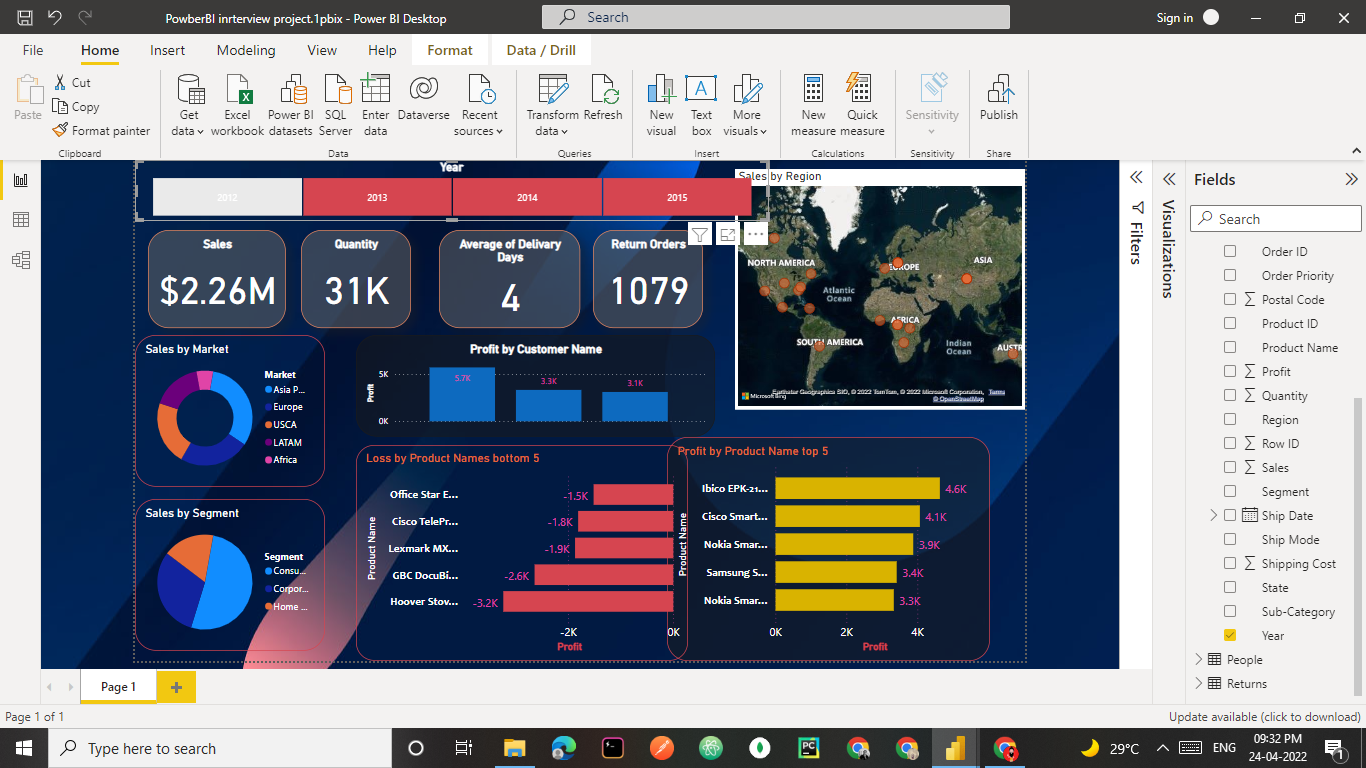

The dashboard page shown, as its layout file describes it:
{"tool":"powerbi","page":{"name":"Page 1","canvas":[1280,720],"ordinal":0},"visuals":[{"type":"card","title":"Sales","fields":{"Values":["Sum(Orders.Sales)"]},"box":[18.5,100.8,198.2,141.1],"z":0},{"type":"card","title":"Quantity","fields":{"Values":["Sum(Orders.Quantity)"]},"box":[238.5,100.8,157.9,141.1],"z":1000},{"type":"card","title":"Average of Delivary Days","fields":{"Values":["Avg(Orders.Delivary Days)"]},"box":[436.7,100.8,203.3,141.1],"z":2000},{"type":"slicer","title":"Year","fields":{"Values":["Orders.Year"]},"box":[0,0,862.3,87.7],"z":3000},{"type":"card","title":"Return Orders","fields":{"Values":["Sum(Returns.Return Orders)"]},"box":[658.5,100.8,157.9,141.1],"z":4000},{"type":"map","fields":{"Size":["Sum(Orders.Sales)"],"Category":["Returns.Region"]},"box":[861.7,13.4,418.3,346],"z":5000},{"type":"clusteredBarChart","title":"Profit by Product Name top 5","fields":{"Category":["Orders.Product Name"],"Y":["Sum(Orders.Profit)"]},"box":[764.6,398.1,464.2,321.9],"z":6000},{"type":"clusteredBarChart","title":"Loss by Product Names bottom 5","fields":{"Category":["Orders.Product Name"],"Y":["Sum(Orders.Profit)"]},"box":[317.6,409.6,477.1,310.4],"z":7000},{"type":"pieChart","fields":{"Category":["Orders.Segment"],"Y":["Sum(Orders.Sales)"]},"box":[0,487.2,273.1,218.4],"z":8000},{"type":"donutChart","fields":{"Category":["Orders.Market"],"Y":["Sum(Orders.Sales)"]},"box":[0,251.5,273.1,218.4],"z":9000},{"type":"columnChart","fields":{"Category":["Orders.Customer Name"],"Y":["Sum(Orders.Profit)"]},"box":[317.5,252,515.7,146.1],"z":10000}]}

Visuals, with their boxes on the page's 1280x720 design canvas (x1, y1, x2, y2). These are canvas units, not pixel positions in the 1366x768 screenshot, which may show the page scaled, cropped or inside an application window:
"Sales" card: (18, 101, 217, 242)
"Quantity" card: (238, 101, 396, 242)
"Average of Delivary Days" card: (437, 101, 640, 242)
"Year" slicer: (0, 0, 862, 88)
"Return Orders" card: (658, 101, 816, 242)
map - Sum(Orders.Sales) x Returns.Region: (862, 13, 1280, 359)
"Profit by Product Name top 5" clusteredBarChart: (765, 398, 1229, 720)
"Loss by Product Names bottom 5" clusteredBarChart: (318, 410, 795, 720)
pieChart - Orders.Segment x Sum(Orders.Sales): (0, 487, 273, 706)
donutChart - Orders.Market x Sum(Orders.Sales): (0, 252, 273, 470)
columnChart - Orders.Customer Name x Sum(Orders.Profit): (318, 252, 833, 398)
